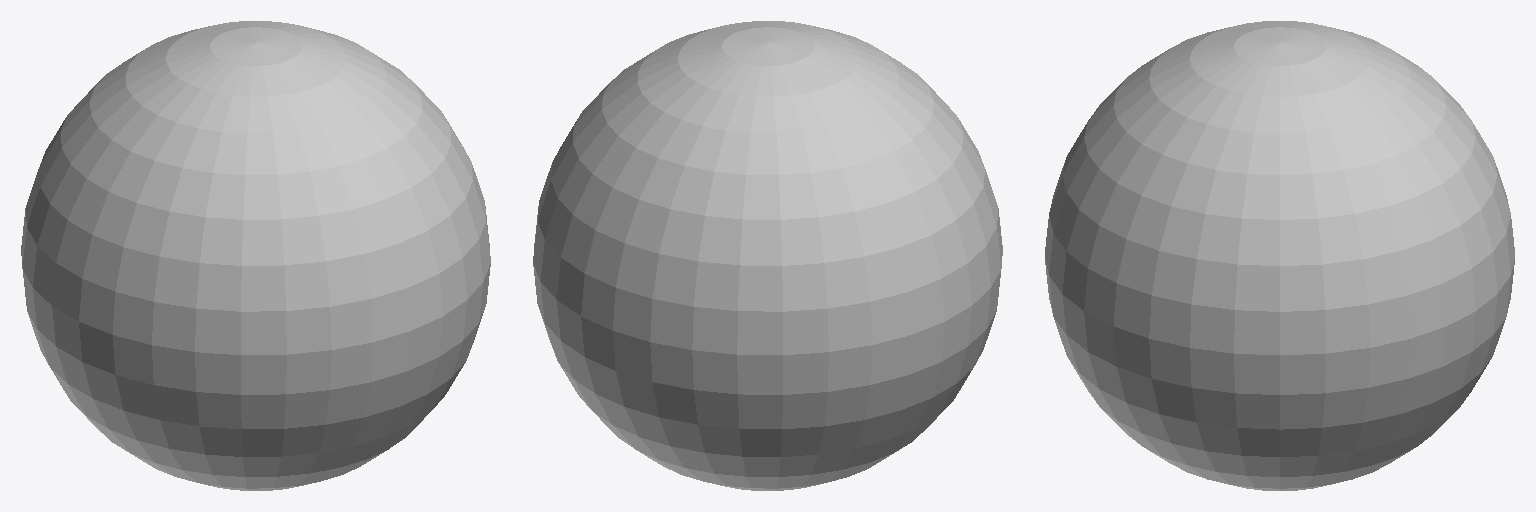
The model's file is luna2.obj.
3 views of the same model, side by side, from view 1: azimuth 30°, elevation 25°; view 2: azimuth 150°, elevation 25°; view 3: azimuth 270°, elevation 25° (orthographic).
Visible parts, largest first — view 1: Sphere; view 2: Sphere; view 3: Sphere.
Boxes of the visible parts, x1=… form: Sphere: x1=21, y1=21, x2=490, y2=490; Sphere: x1=533, y1=21, x2=1002, y2=490; Sphere: x1=1045, y1=21, x2=1514, y2=490.
Size of the model in its own units: 0.2988 by 0.2988 by 0.2988.